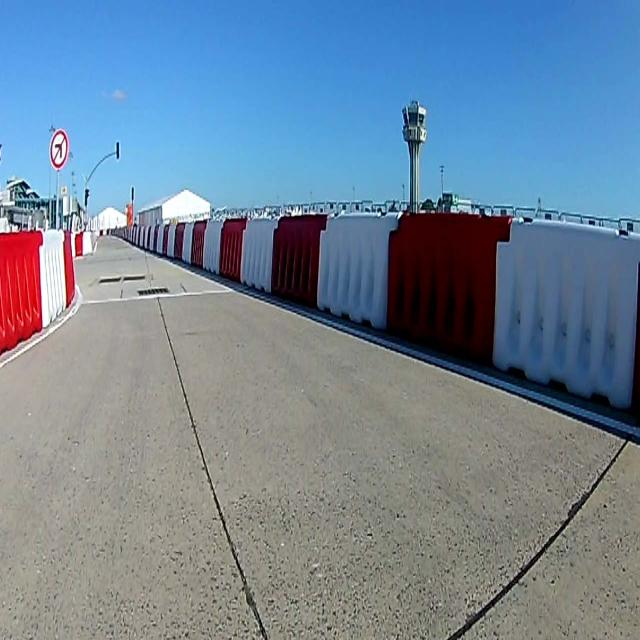soladonulmez: (50, 129, 70, 171)
